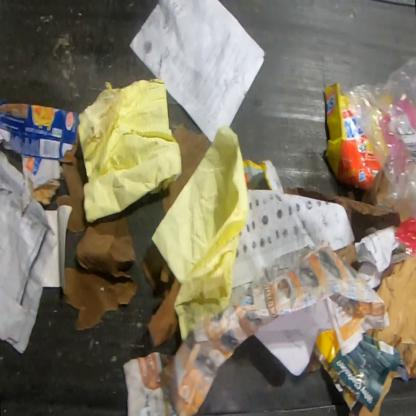cardboard: (323, 81, 383, 193), (365, 253, 415, 380), (0, 99, 81, 163), (20, 154, 64, 206), (242, 158, 286, 194), (314, 328, 340, 365), (333, 243, 357, 268)
soft_plastic: (341, 55, 415, 259)
